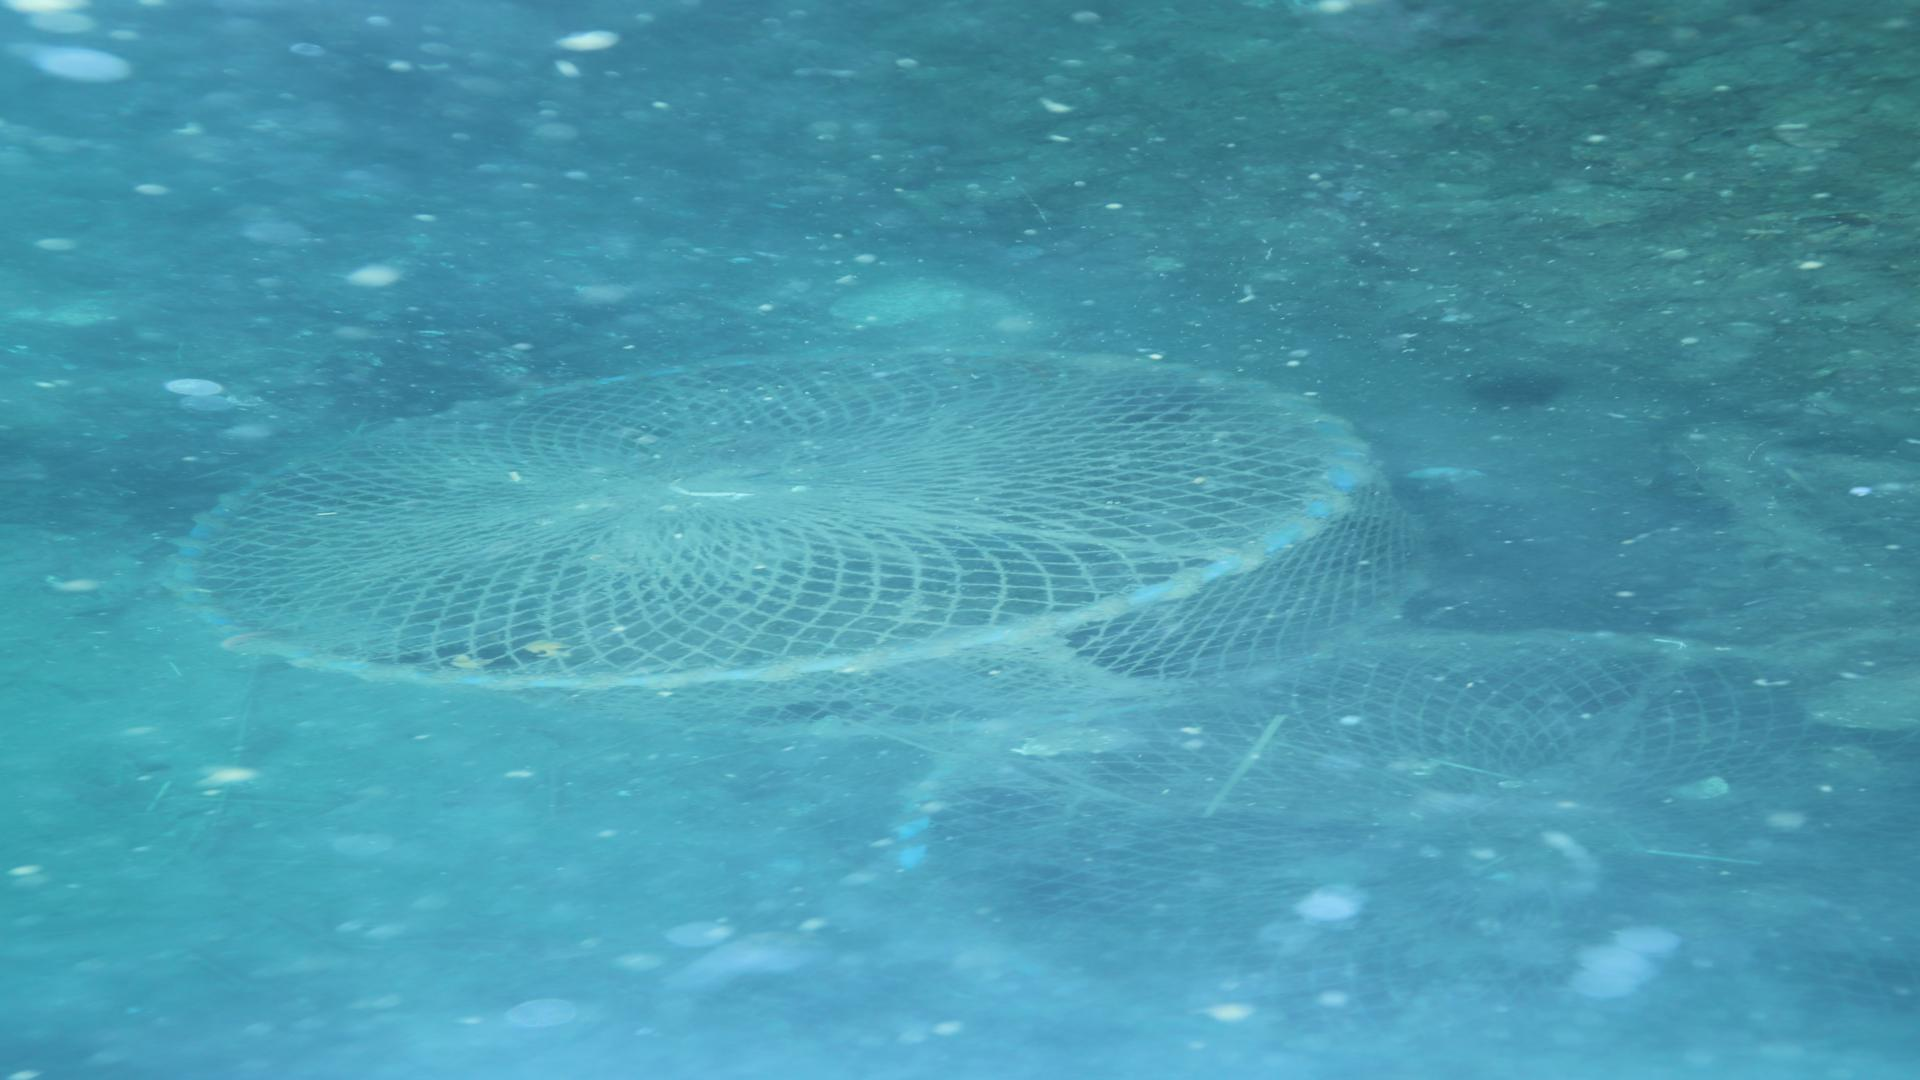circular fish trap: (171, 344, 1429, 746), (890, 628, 1920, 1075)
